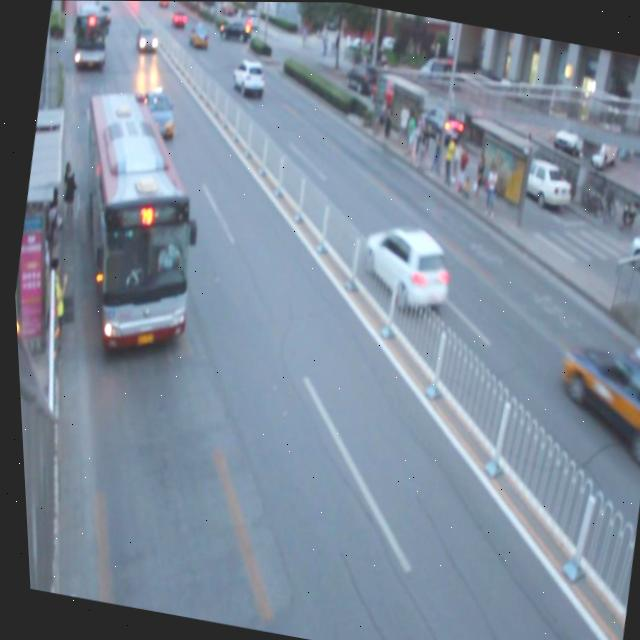car: (541, 328, 640, 455), (349, 215, 455, 318), (132, 85, 180, 141), (227, 53, 269, 103)
van: (47, 89, 219, 355)
